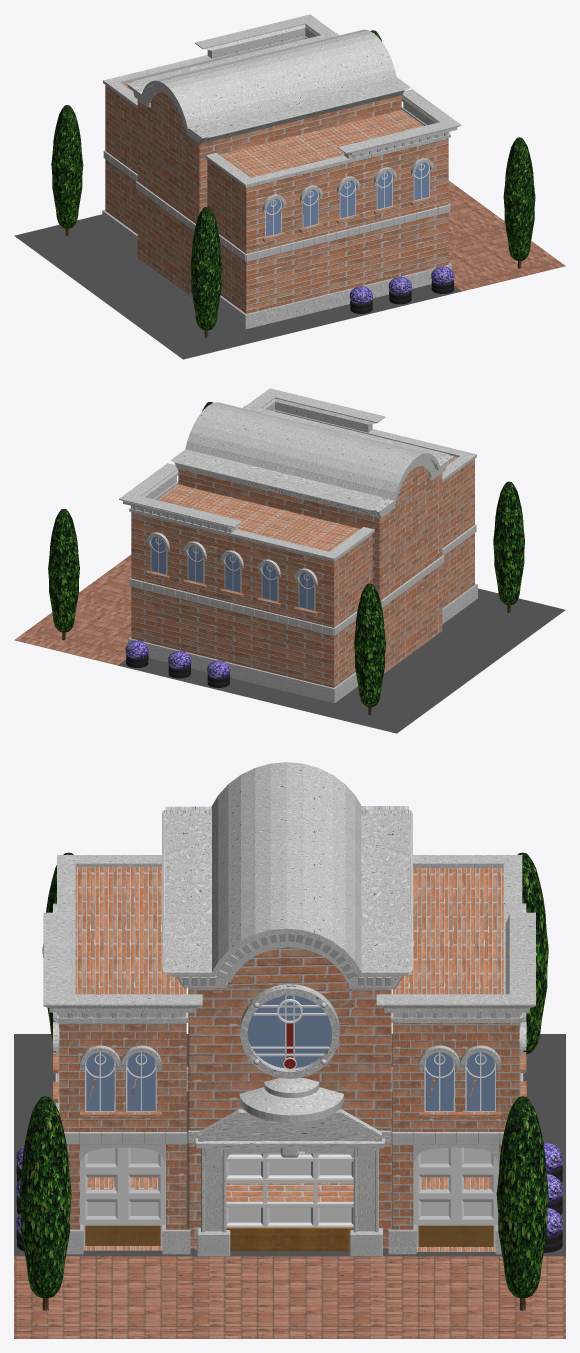
File: CityHall.fbx
3 renders of one model, top to bottom at view 1: azimuth 30°, elevation 25°; view 2: azimuth 150°, elevation 25°; view 3: azimuth 270°, elevation 25°, orthographic. The views are drawn at different scales.
Visible parts, largest first — view 1: Cube.001, Plane, Cube, Circle.002, Plane.001, Cube.021, Cube.002, Cube.033, Cube.028, Cube.042, Sphere.004, Sphere.001 (+9 smaller); view 2: Cube.028, Plane, Cube, Circle.002, Plane.001, Cube.033, Cube.010, Cube.001, Cube.021, Cube.043, Sphere.004, Sphere.003 (+9 smaller); view 3: Plane.001, Circle.002, Cube.001, Cube, Cube.028, Plane, Cube.033, Cube.021, Cylinder, Cube.043, Cube.042, Sphere.002 (+18 smaller).
Boxes of the visible parts, x1,y1,x2,y2 form: Cube.001: [207, 110, 448, 313]; Plane: [14, 214, 461, 359]; Cube: [137, 92, 401, 297]; Circle.002: [142, 29, 396, 129]; Plane.001: [448, 180, 565, 291]; Cube.021: [205, 89, 461, 187]; Cube.002: [262, 158, 434, 241]; Cube.033: [103, 14, 334, 107]; Cube.028: [105, 81, 137, 233]; Cube.042: [187, 77, 410, 138]; Sphere.004: [190, 207, 222, 338]; Sphere.001: [503, 137, 535, 268]; Cube.028: [131, 484, 372, 687]; Plane: [118, 588, 565, 733]; Cube: [178, 466, 442, 673]; Circle.002: [185, 402, 440, 501]; Plane.001: [14, 555, 131, 665]; Cube.033: [119, 463, 374, 561]; Cube.010: [146, 532, 317, 615]; Cube.001: [442, 455, 474, 608]; Cube.021: [247, 388, 476, 482]; Cube.043: [171, 449, 394, 511]; Sphere.004: [493, 481, 524, 612]; Sphere.003: [354, 583, 385, 714]; Plane.001: [14, 1256, 565, 1338]; Circle.002: [211, 762, 362, 976]; Cube.001: [59, 867, 186, 1250]; Cube: [188, 947, 391, 1249]; Cube.028: [392, 868, 519, 1251]; Plane: [14, 1034, 565, 1256]; Cube.033: [376, 855, 535, 1022]; Cube.021: [43, 855, 202, 1022]; Cylinder: [194, 1078, 385, 1148]; Cube.043: [359, 806, 412, 976]; Cube.042: [162, 806, 216, 976]; Sphere.002: [496, 1096, 548, 1310].
Bounding box in the file's own units: 1135 × 567 × 868.
